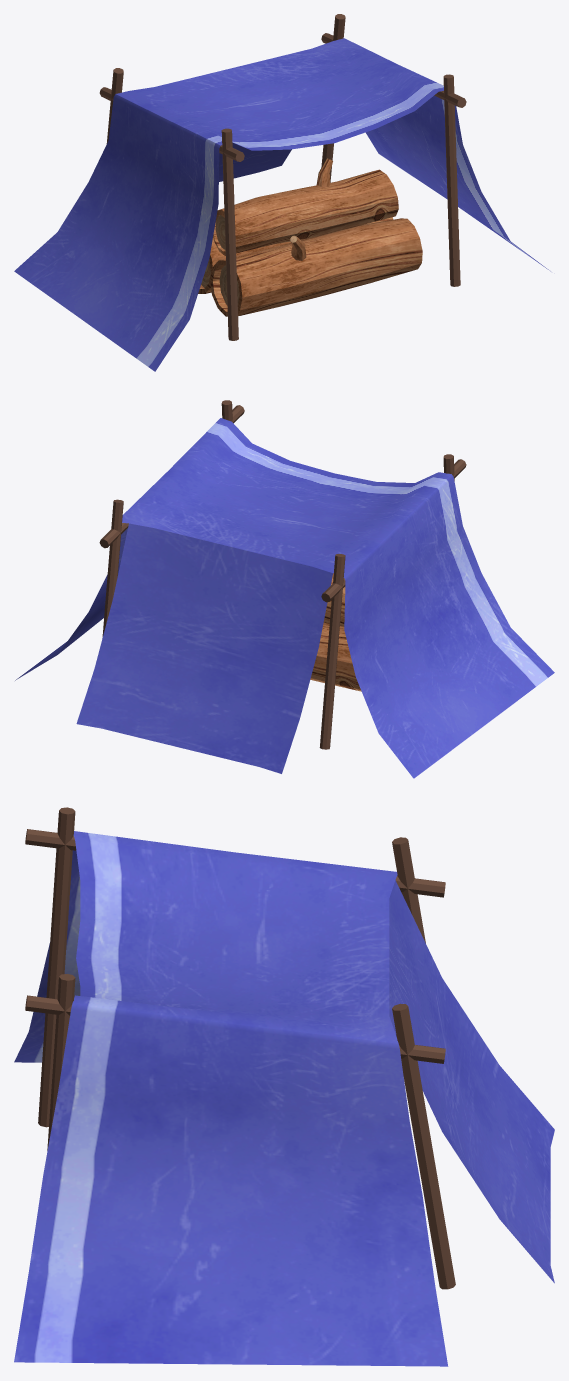
Rendered from SM_Props_Tent.fbx.
The picture shows the model from 3 angles, top to bottom: view 1: azimuth 30°, elevation 25°; view 2: azimuth 150°, elevation 25°; view 3: azimuth 270°, elevation 25°; orthographic projection. The views are drawn at different scales.
Visible parts, largest first — view 1: SM_Props_Tent; view 2: SM_Props_Tent; view 3: SM_Props_Tent.
Boxes of the visible parts, x1,y1,x2,y2 form: SM_Props_Tent: [14, 14, 550, 371]; SM_Props_Tent: [15, 400, 554, 778]; SM_Props_Tent: [14, 807, 554, 1366].
Size of the model in its own units: 336 by 168 by 256.
